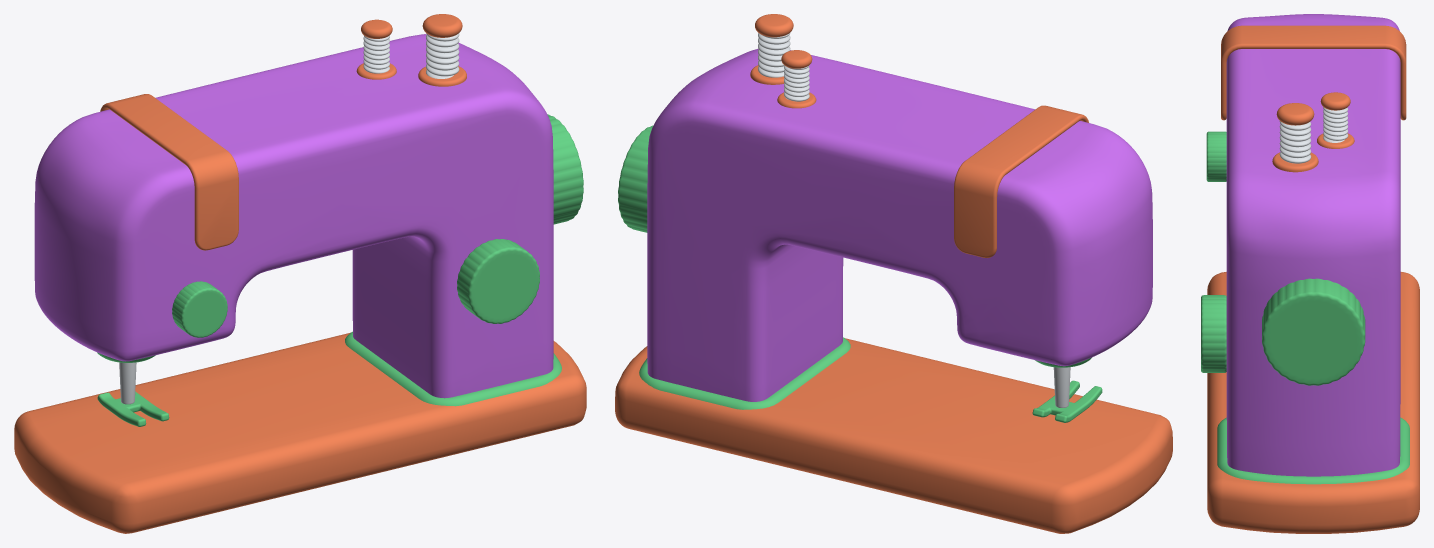
File: 7. Sewing Machine.glb
3 renders of one model, left to right at view 1: azimuth 30°, elevation 25°; view 2: azimuth 150°, elevation 25°; view 3: azimuth 270°, elevation 25°, orthographic. The views are drawn at different scales.
Visible parts, largest first — view 1: Plane, Plane.001, Plane.003, Cylinder, Cylinder.001, Plane.004, Cylinder.002, Vert.002, Plane.002, Vert, Vert.003, Cylinder.004; view 2: Plane, Plane.001, Plane.003, Plane.004, Cylinder.001, Plane.002, Vert.002, Vert, Vert.003; view 3: Plane, Plane.001, Cylinder.001, Plane.003, Plane.004, Cylinder, Vert.002, Cylinder.002, Vert, Vert.003, Vert.005, Vert.001 (+1 smaller).
Boxes of the visible parts, bbox=[...] form: Plane: bbox=[34, 34, 553, 398]; Plane.001: bbox=[14, 332, 586, 533]; Plane.003: bbox=[100, 94, 238, 250]; Cylinder: bbox=[457, 239, 539, 323]; Cylinder.001: bbox=[547, 114, 583, 224]; Plane.004: bbox=[345, 331, 561, 406]; Cylinder.002: bbox=[172, 281, 227, 337]; Vert.002: bbox=[426, 33, 459, 78]; Plane.002: bbox=[97, 391, 169, 426]; Vert: bbox=[363, 35, 389, 73]; Vert.003: bbox=[422, 14, 462, 37]; Cylinder.004: bbox=[119, 362, 136, 404]; Plane: bbox=[647, 48, 1152, 401]; Plane.001: bbox=[615, 338, 1172, 533]; Plane.003: bbox=[954, 105, 1088, 257]; Plane.004: bbox=[639, 337, 850, 409]; Cylinder.001: bbox=[618, 125, 652, 232]; Plane.002: bbox=[1032, 380, 1102, 422]; Vert.002: bbox=[758, 33, 790, 77]; Vert: bbox=[784, 65, 809, 101]; Vert.003: bbox=[755, 14, 793, 37]; Plane: bbox=[1226, 14, 1400, 476]; Plane.001: bbox=[1207, 272, 1419, 533]; Cylinder.001: bbox=[1262, 278, 1365, 385]; Plane.003: bbox=[1221, 25, 1406, 120]; Plane.004: bbox=[1217, 417, 1409, 484]; Cylinder: bbox=[1201, 295, 1226, 372]; Vert.002: bbox=[1279, 121, 1311, 163]; Cylinder.002: bbox=[1206, 131, 1226, 181]; Vert: bbox=[1323, 107, 1348, 142]; Vert.003: bbox=[1276, 103, 1314, 125]; Vert.005: bbox=[1272, 152, 1318, 172]; Vert.001: bbox=[1320, 92, 1350, 110].
Size of the model in its own units: 0.7773 by 0.5787 by 0.3064.
